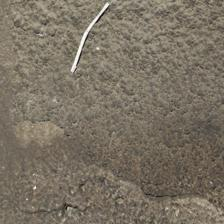Crack: (79, 0, 224, 160), (68, 62, 106, 86)
